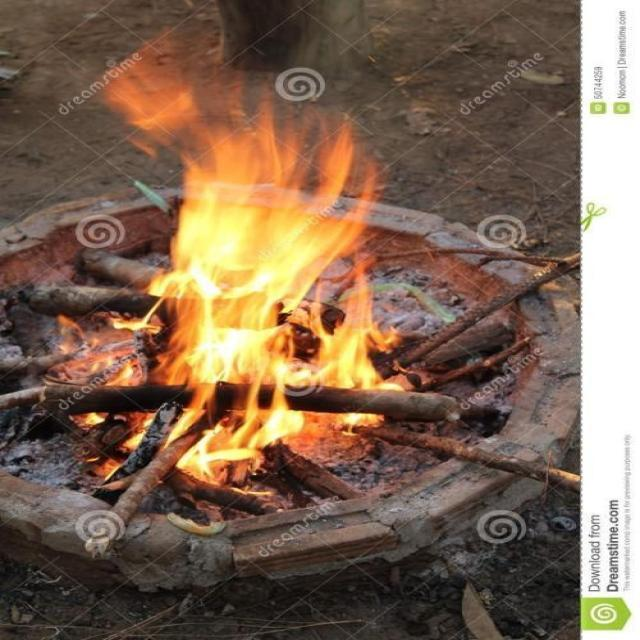Fire: (51, 39, 403, 494)
